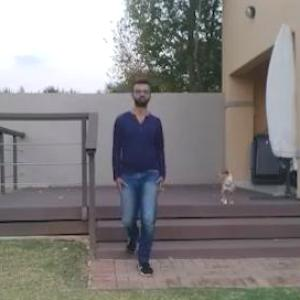follow: (107, 74, 159, 281)
